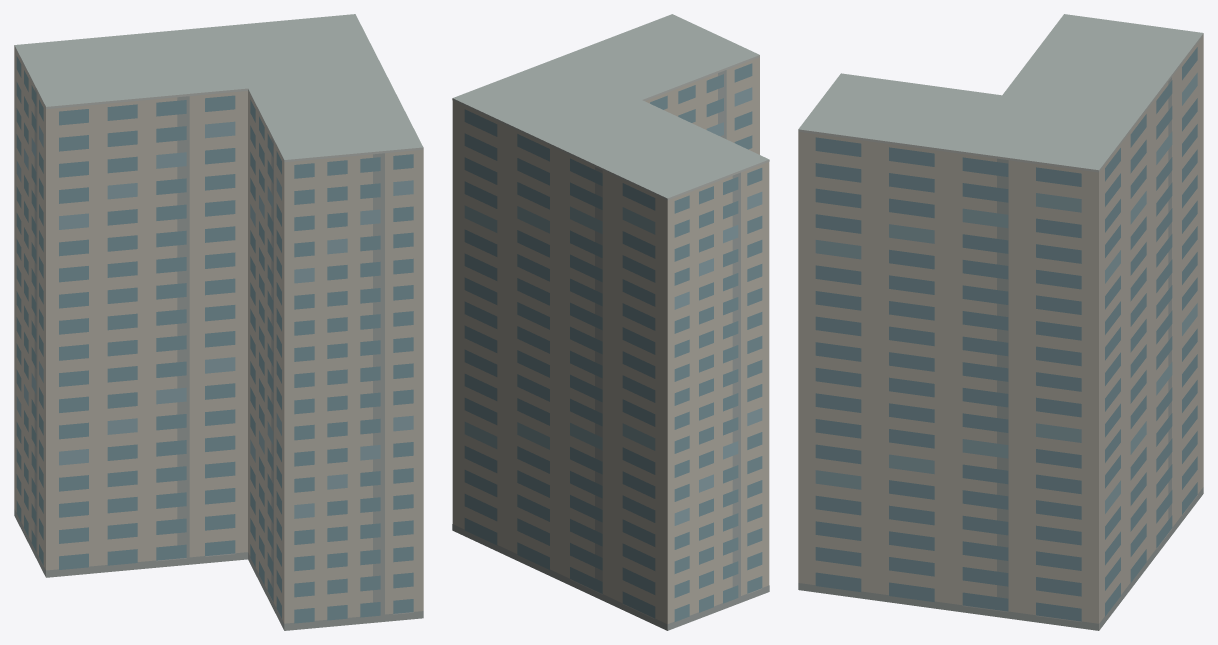
File: residential-77f90b35-8fb2-4c9c-aa17-83a1581674ef.glb
The picture shows the model from 3 angles, left to right: view 1: azimuth 30°, elevation 25°; view 2: azimuth 150°, elevation 25°; view 3: azimuth 270°, elevation 25°; orthographic projection. The views are drawn at different scales.
Visible parts, largest first — view 1: residential-77f90b35-8fb2-4c9c-aa17-83a1581674ef.tmp; view 2: residential-77f90b35-8fb2-4c9c-aa17-83a1581674ef.tmp; view 3: residential-77f90b35-8fb2-4c9c-aa17-83a1581674ef.tmp.
Part boxes in pixels (x1,y1,x2,y2): residential-77f90b35-8fb2-4c9c-aa17-83a1581674ef.tmp: (14, 14, 423, 630); residential-77f90b35-8fb2-4c9c-aa17-83a1581674ef.tmp: (452, 14, 769, 630); residential-77f90b35-8fb2-4c9c-aa17-83a1581674ef.tmp: (798, 14, 1203, 630).
Bounding box in the file's own units: 36.38 × 50 × 39.89.
